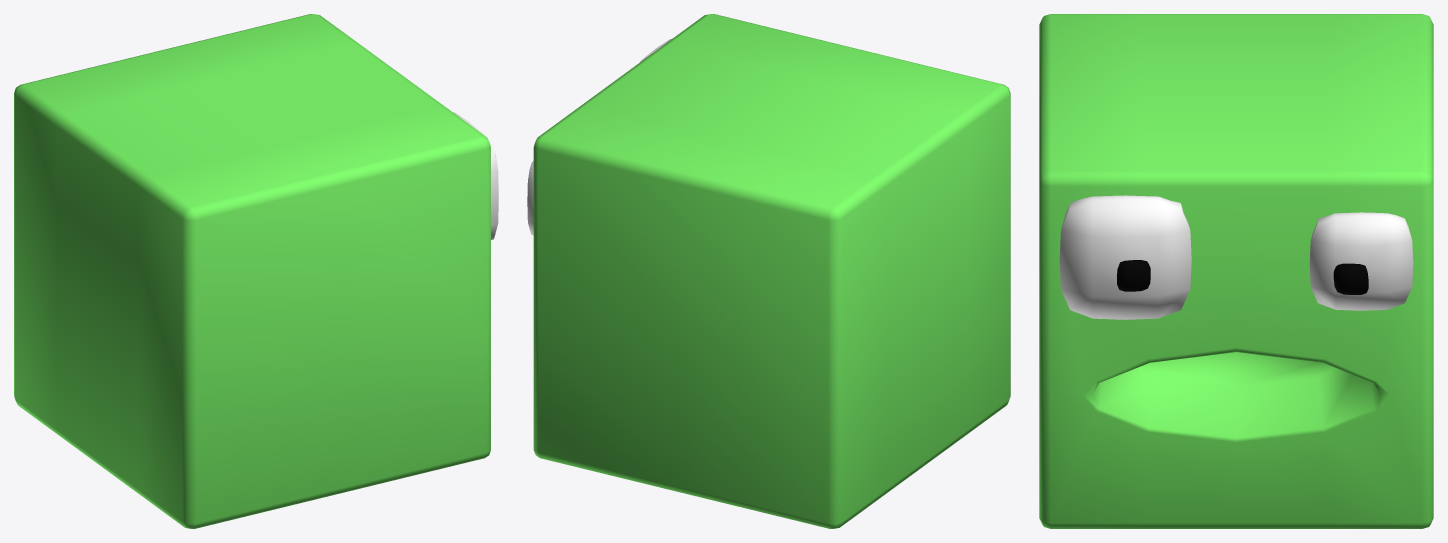
Rendered from mad_jelly.fbx.
3 renders of one model, left to right at view 1: azimuth 30°, elevation 25°; view 2: azimuth 150°, elevation 25°; view 3: azimuth 270°, elevation 25°, orthographic. The views are drawn at different scales.
Visible parts, largest first — view 1: mad_jelly; view 2: mad_jelly; view 3: mad_jelly.
Boxes of the visible parts, x1,y1,x2,y2 form: mad_jelly: [14, 14, 498, 528]; mad_jelly: [527, 14, 1010, 528]; mad_jelly: [1039, 14, 1433, 528].
Bounding box in the file's own units: 225 × 200 × 200.
